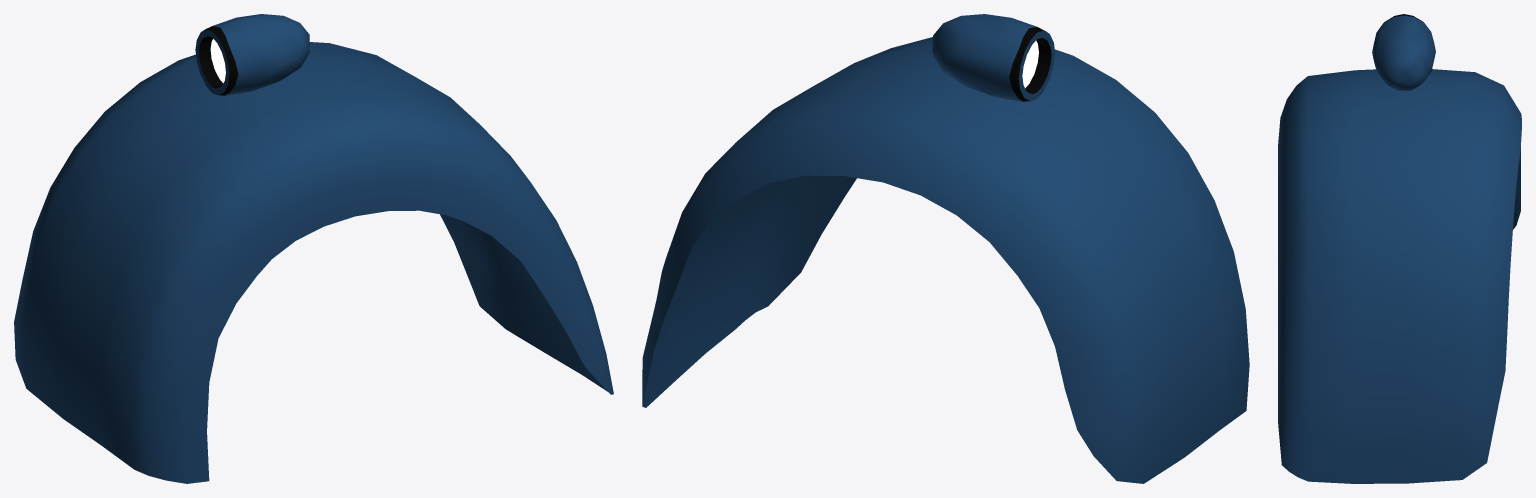
Rendered from Tri Wing FL.glb.
3 views of the same model, side by side, from view 1: azimuth 30°, elevation 25°; view 2: azimuth 150°, elevation 25°; view 3: azimuth 270°, elevation 25° (orthographic). The views are drawn at different scales.
Visible parts, largest first — view 1: Wings.001; view 2: Wings.001; view 3: Wings.001.
Boxes of the visible parts, x1,y1,x2,y2 form: Wings.001: (14, 14, 613, 483); Wings.001: (642, 14, 1249, 483); Wings.001: (1278, 14, 1521, 483).
Bounding box in the file's own units: 1.25 × 1.01 × 0.6577.
